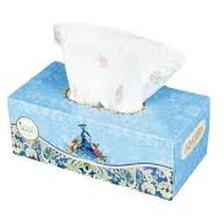book: (3, 57, 214, 203)
tissue: (50, 16, 190, 117)
